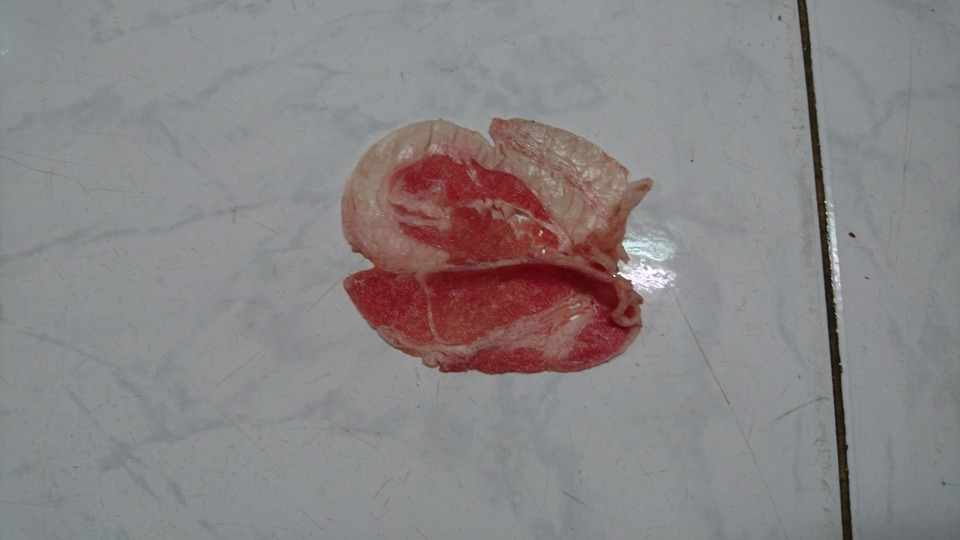restructured meat: (334, 114, 650, 377)
